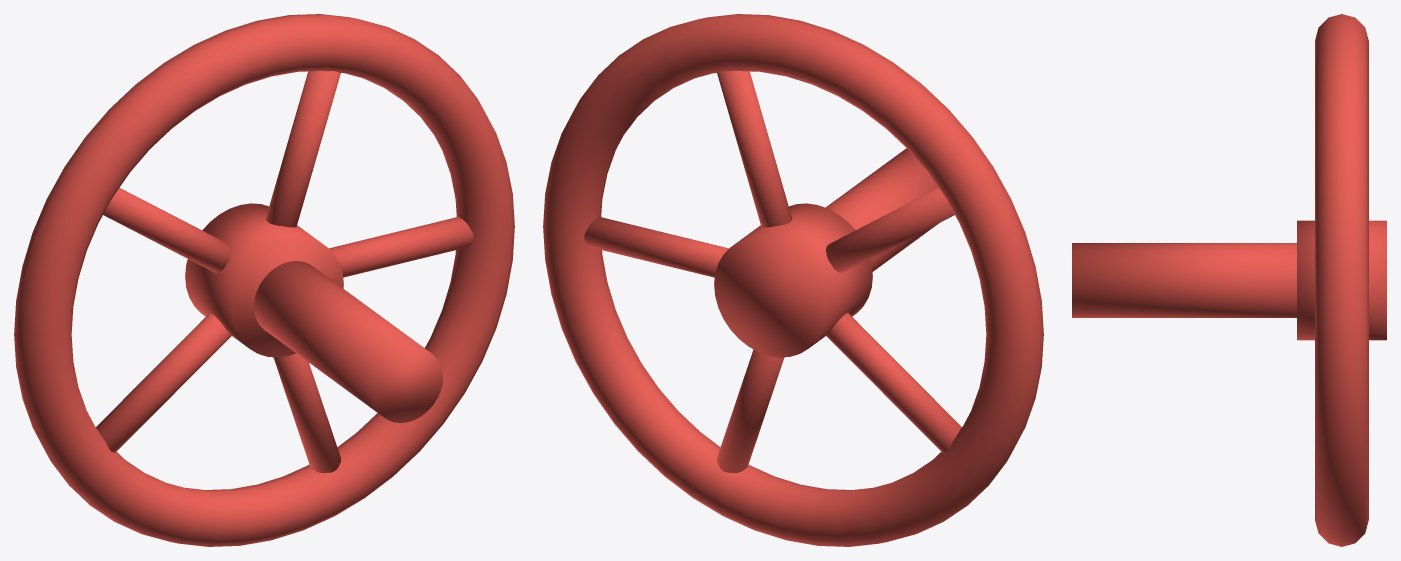
File: SM_SteamValve.fbx
3 renders of one model, left to right at view 1: azimuth 30°, elevation 25°; view 2: azimuth 150°, elevation 25°; view 3: azimuth 270°, elevation 25°, orthographic. The views are drawn at different scales.
Visible parts, largest first — view 1: Torus; view 2: Torus; view 3: Torus.
Boxes of the visible parts, box(x1,y1,x2,y2) form: Torus: box(14, 14, 514, 546); Torus: box(543, 14, 1043, 546); Torus: box(1072, 14, 1386, 546).
Size of the model in its own units: 35.6 by 35.6 by 21.
